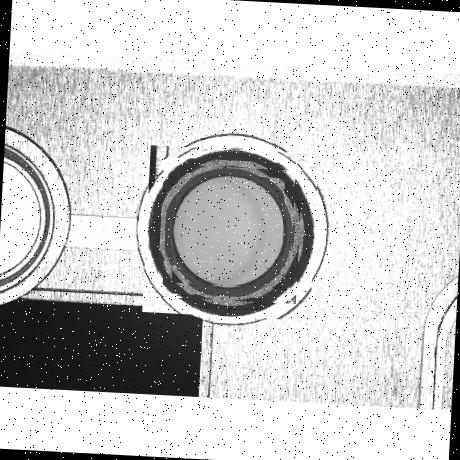Hole: (142, 144, 318, 320)
Hole2: (156, 156, 304, 304)
Hole3: (162, 162, 296, 300)
Hole4: (171, 172, 285, 288)
